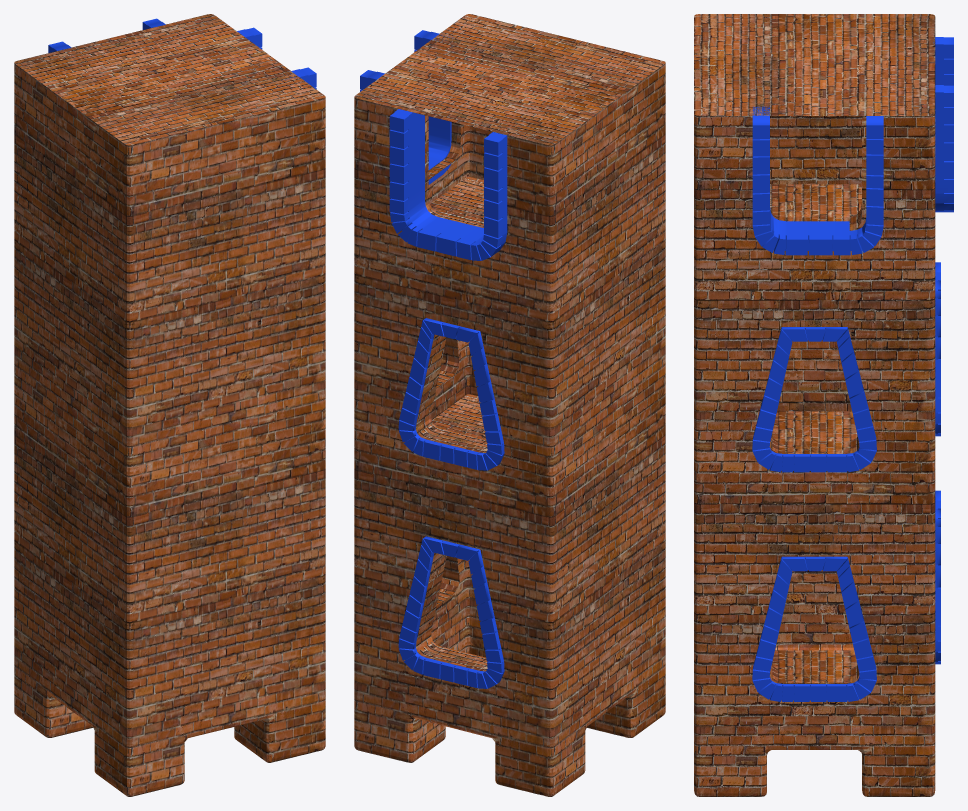
File: Tower2.FBX
3 renders of one model, left to right at view 1: azimuth 30°, elevation 25°; view 2: azimuth 150°, elevation 25°; view 3: azimuth 270°, elevation 25°, orthographic. The views are drawn at different scales.
Visible parts, largest first — view 1: Object010; view 2: Object010; view 3: Object010.
Boxes of the visible parts, x1,y1,x2,y2 form: Object010: (14,14,325,796); Object010: (354,14,665,796); Object010: (694,14,953,796).
Bounding box in the file's own units: 369 × 1062 × 366.
